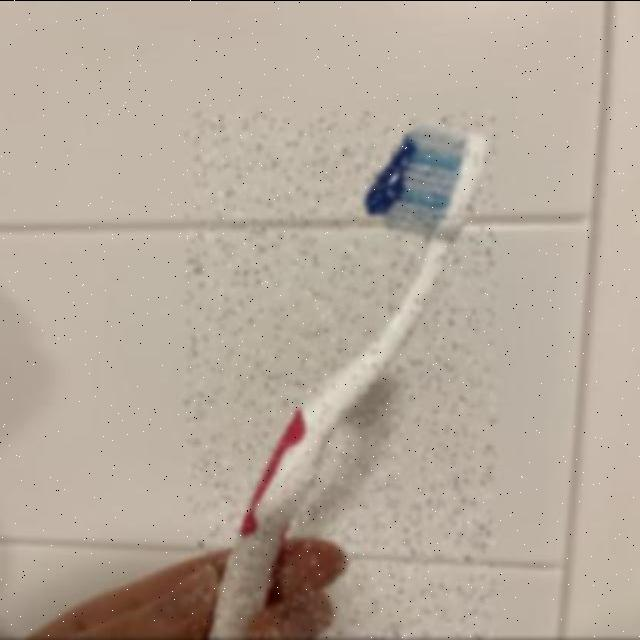toothbrush: (187, 114, 496, 640)
